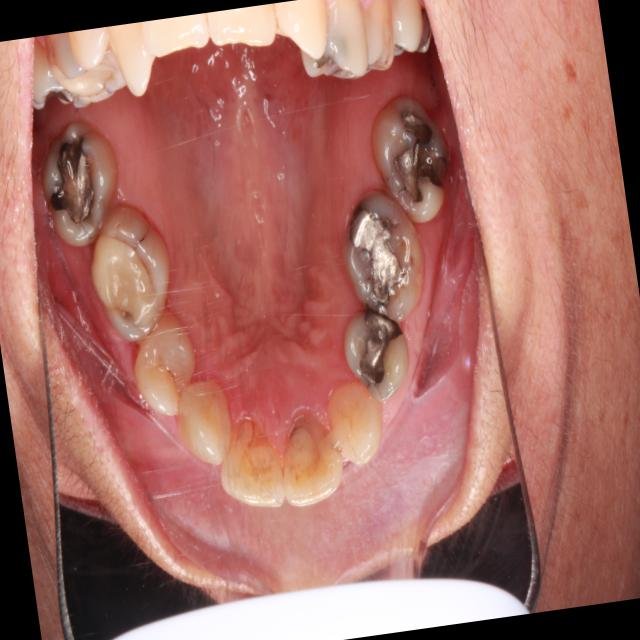tooth: (69, 187, 190, 354), (331, 167, 438, 337), (29, 109, 140, 261), (359, 79, 462, 239), (117, 308, 209, 430), (330, 293, 421, 415), (206, 406, 293, 529), (268, 395, 352, 520), (162, 370, 240, 475), (318, 369, 392, 475)
